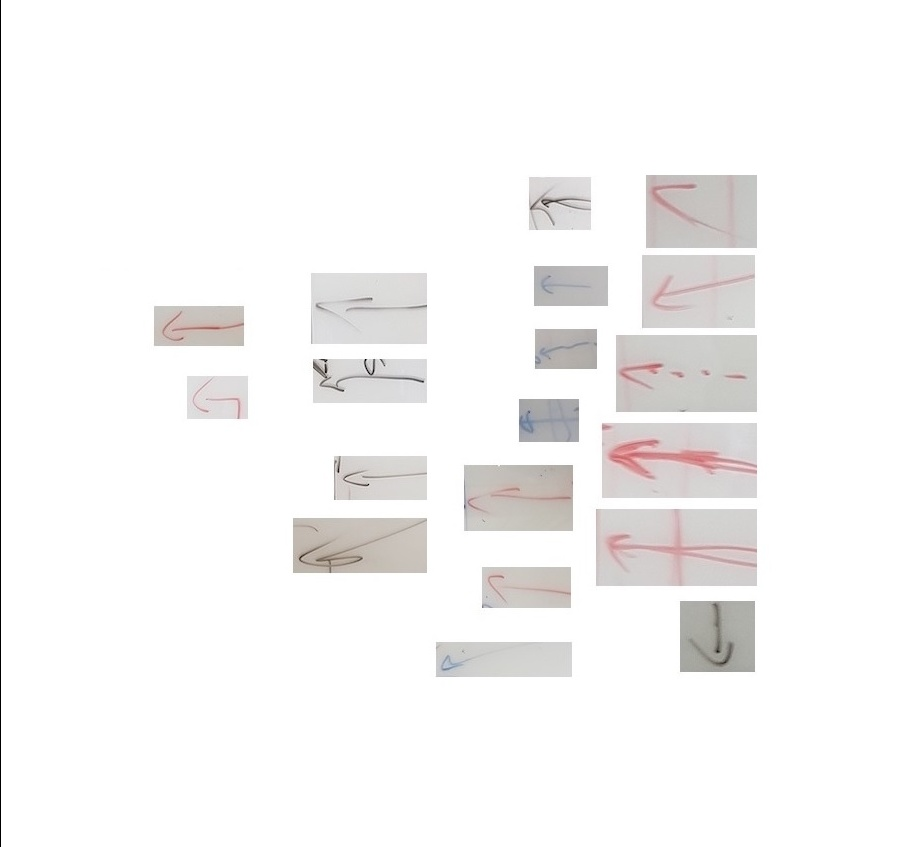arrow: (528, 586, 686, 649), (584, 673, 711, 737), (537, 495, 656, 556), (225, 584, 337, 640), (245, 351, 351, 406), (547, 416, 651, 467), (393, 538, 494, 589), (581, 249, 660, 312), (577, 333, 673, 384), (247, 429, 347, 468), (413, 634, 501, 675), (272, 523, 351, 568), (461, 247, 519, 294), (90, 375, 166, 410), (466, 332, 532, 369), (370, 709, 438, 743), (449, 466, 505, 507), (469, 398, 526, 434), (120, 445, 167, 482)
